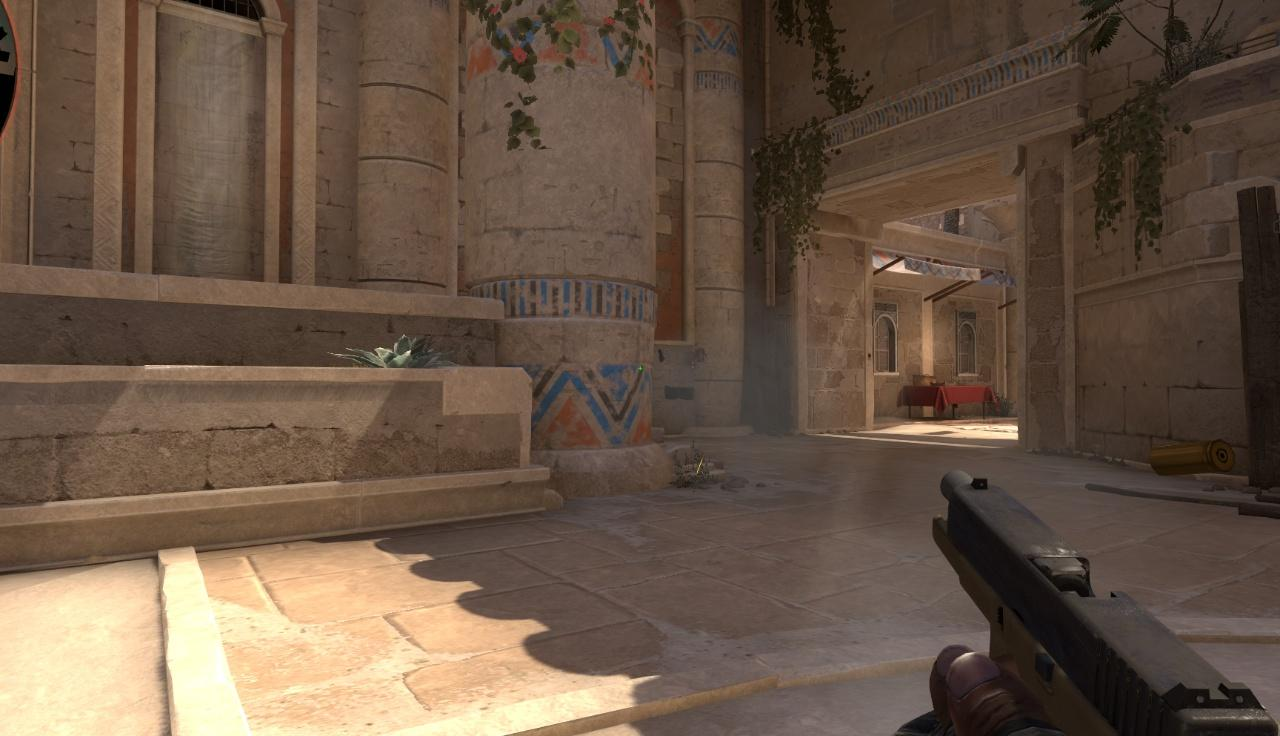pistol: (927, 460, 1275, 736)
